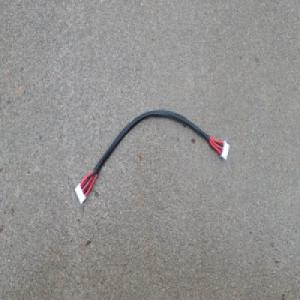Wire: (73, 109, 230, 206)
